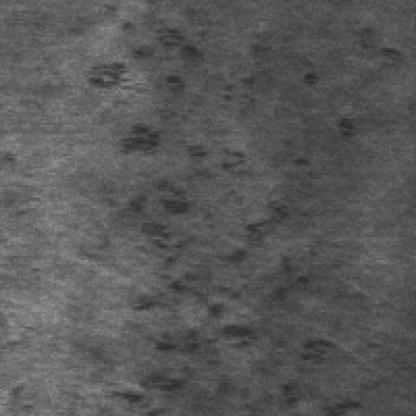rolled-in_scale: (114, 177, 333, 412), (85, 0, 208, 187)
